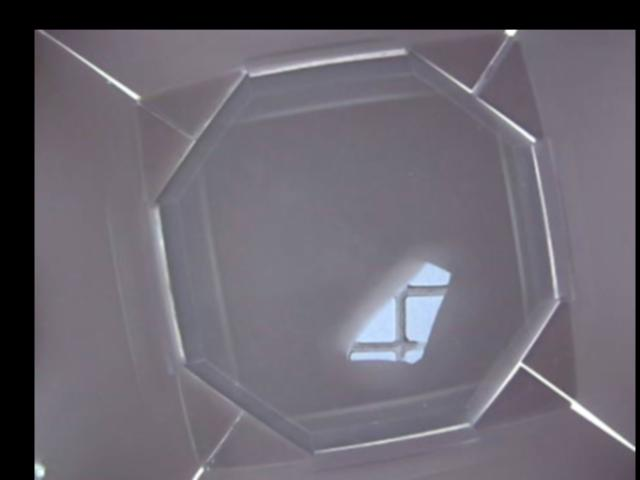China: (350, 263, 452, 363)
